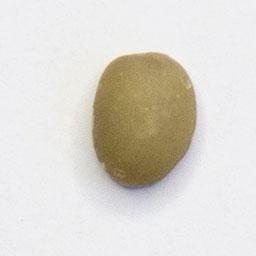premium: (88, 49, 199, 191)
